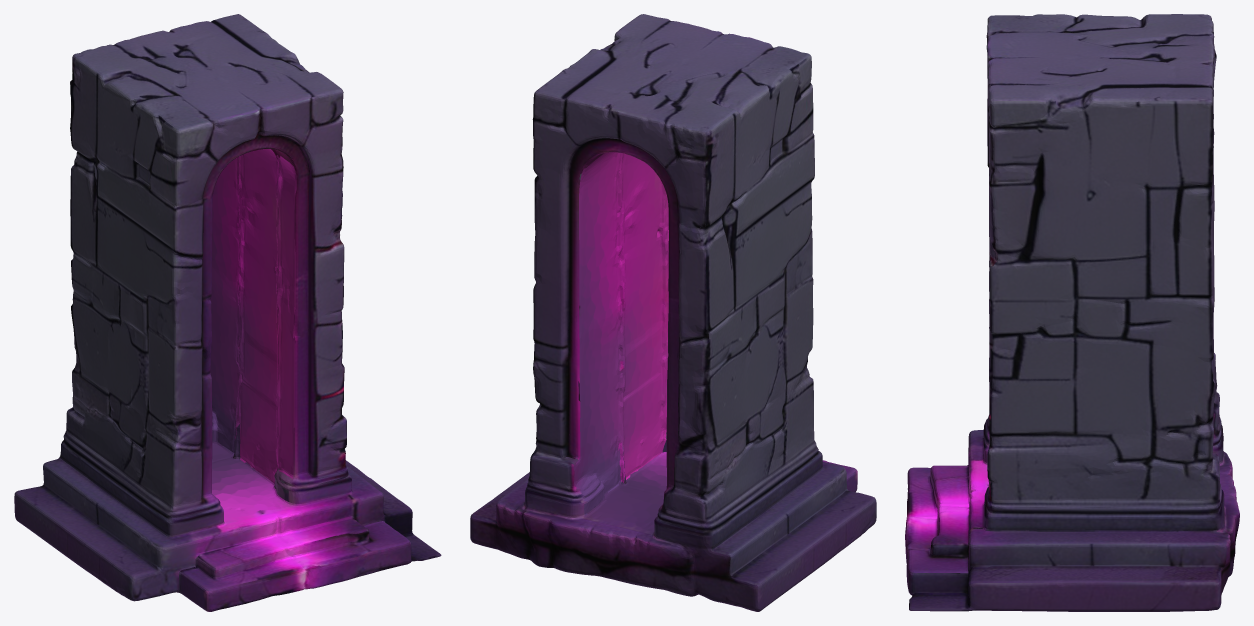
File: solitude-pillar-12-generated-2026-04-19T23-57-40-585Z.glb
3 renders of one model, left to right at view 1: azimuth 30°, elevation 25°; view 2: azimuth 150°, elevation 25°; view 3: azimuth 270°, elevation 25°, orthographic. The views are drawn at different scales.
Visible parts, largest first — view 1: temp_mesh.ply; view 2: temp_mesh.ply; view 3: temp_mesh.ply.
Boxes of the visible parts, x1=… form: temp_mesh.ply: x1=14, y1=14, x2=441, y2=611; temp_mesh.ply: x1=470, y1=14, x2=876, y2=611; temp_mesh.ply: x1=905, y1=14, x2=1239, y2=611.
Size of the model in its own units: 1.28 by 1.97 by 1.24.
Materials: 1 (1 with a texture image).
